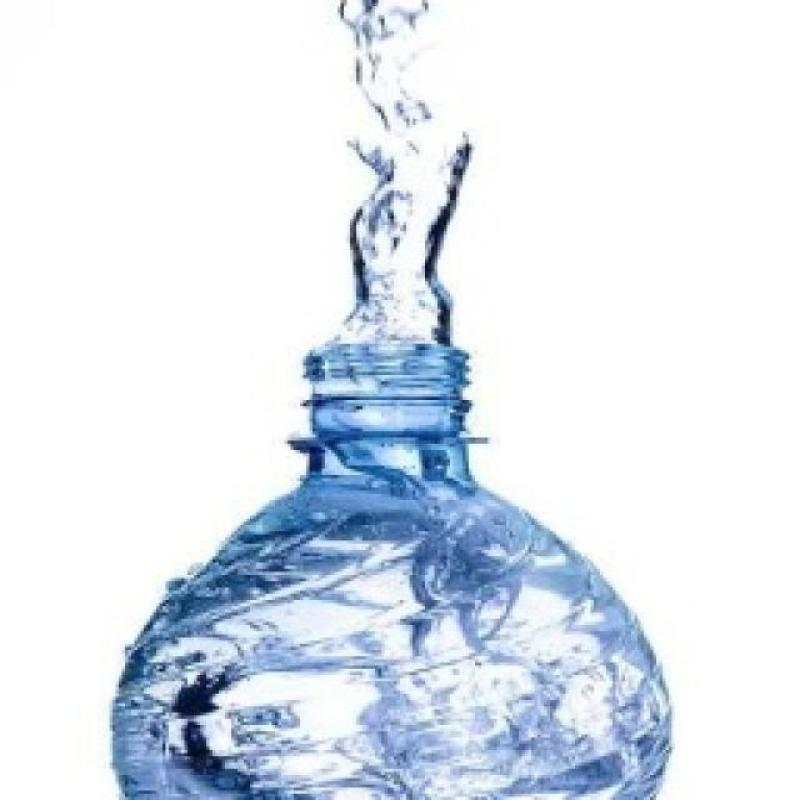botella: (109, 340, 676, 800)
